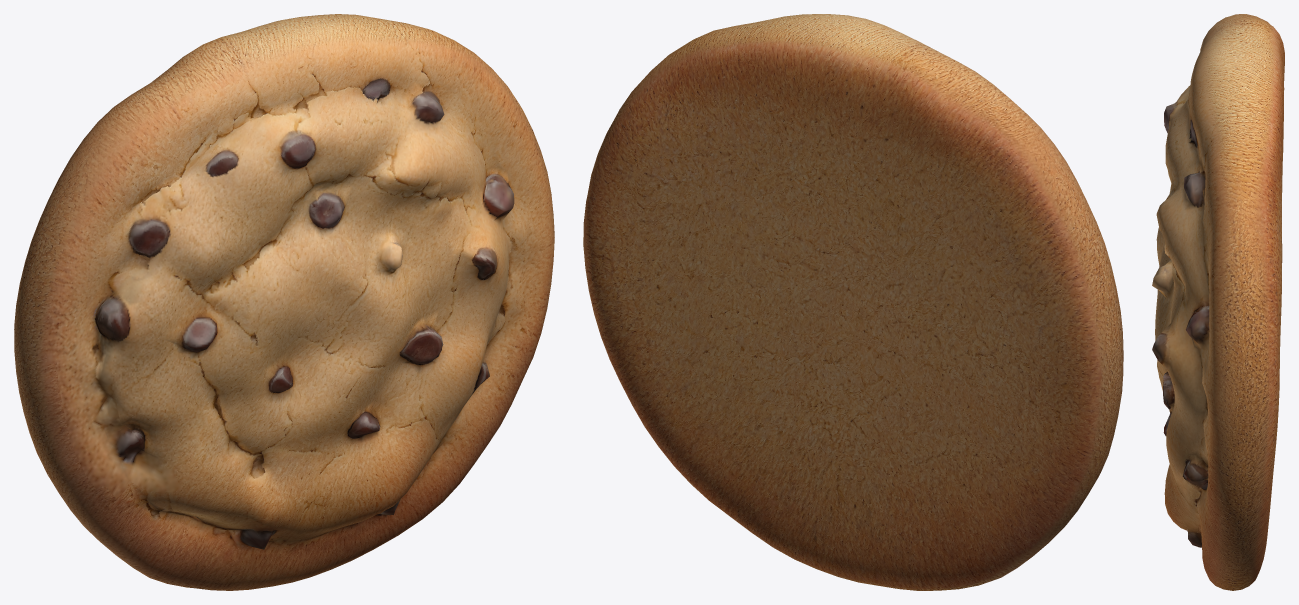
Rendered from cookie.fbx.
The picture shows the model from 3 angles, left to right: view 1: azimuth 30°, elevation 25°; view 2: azimuth 150°, elevation 25°; view 3: azimuth 270°, elevation 25°; orthographic projection. The views are drawn at different scales.
Visible parts, largest first — view 1: texture_mapping; view 2: texture_mapping; view 3: texture_mapping.
Boxes of the visible parts, x1=… form: texture_mapping: x1=14, y1=14, x2=554, y2=590; texture_mapping: x1=583, y1=14, x2=1123, y2=590; texture_mapping: x1=1152, y1=14, x2=1284, y2=590.
Bounding box in the file's own units: 1 × 0.2314 × 1.
1 material, 1 textured.
